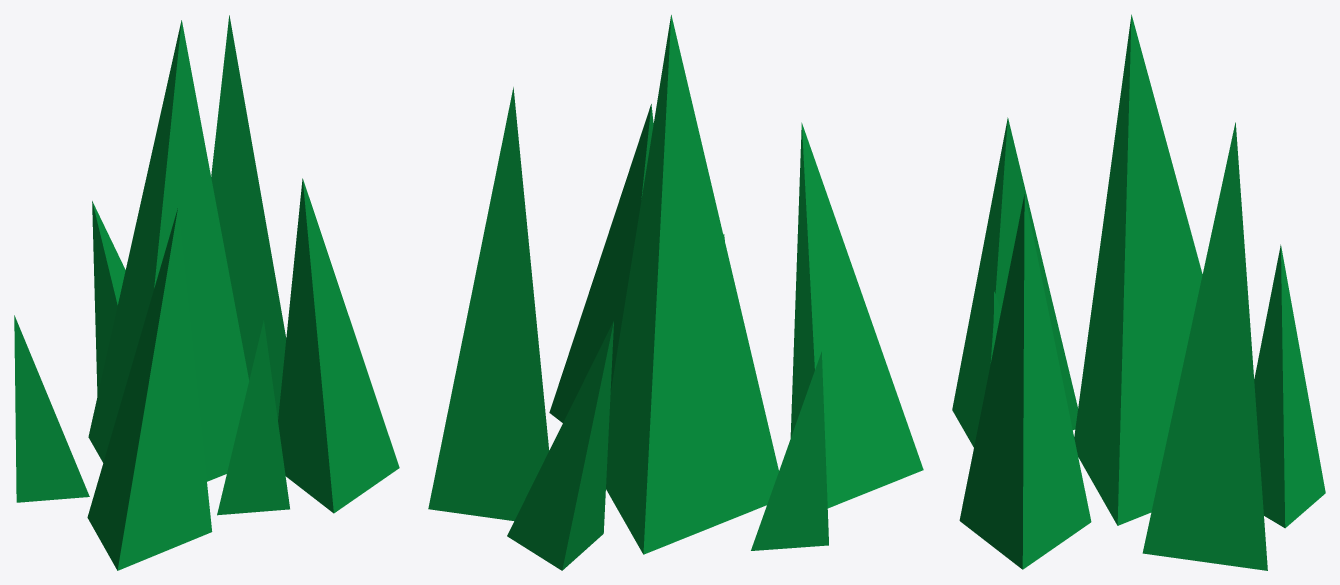
The model's file is grassOne.fbx.
3 views of the same model, side by side, from view 1: azimuth 30°, elevation 25°; view 2: azimuth 150°, elevation 25°; view 3: azimuth 270°, elevation 25° (orthographic). The views are drawn at different scales.
Visible parts, largest first — view 1: Cone; view 2: Cone; view 3: Cone.
Part boxes in pixels (bbox=[...]): Cone: bbox=[14, 15, 399, 570]; Cone: bbox=[428, 15, 923, 570]; Cone: bbox=[952, 14, 1325, 570].
Size of the model in its own units: 141 by 190 by 136.
